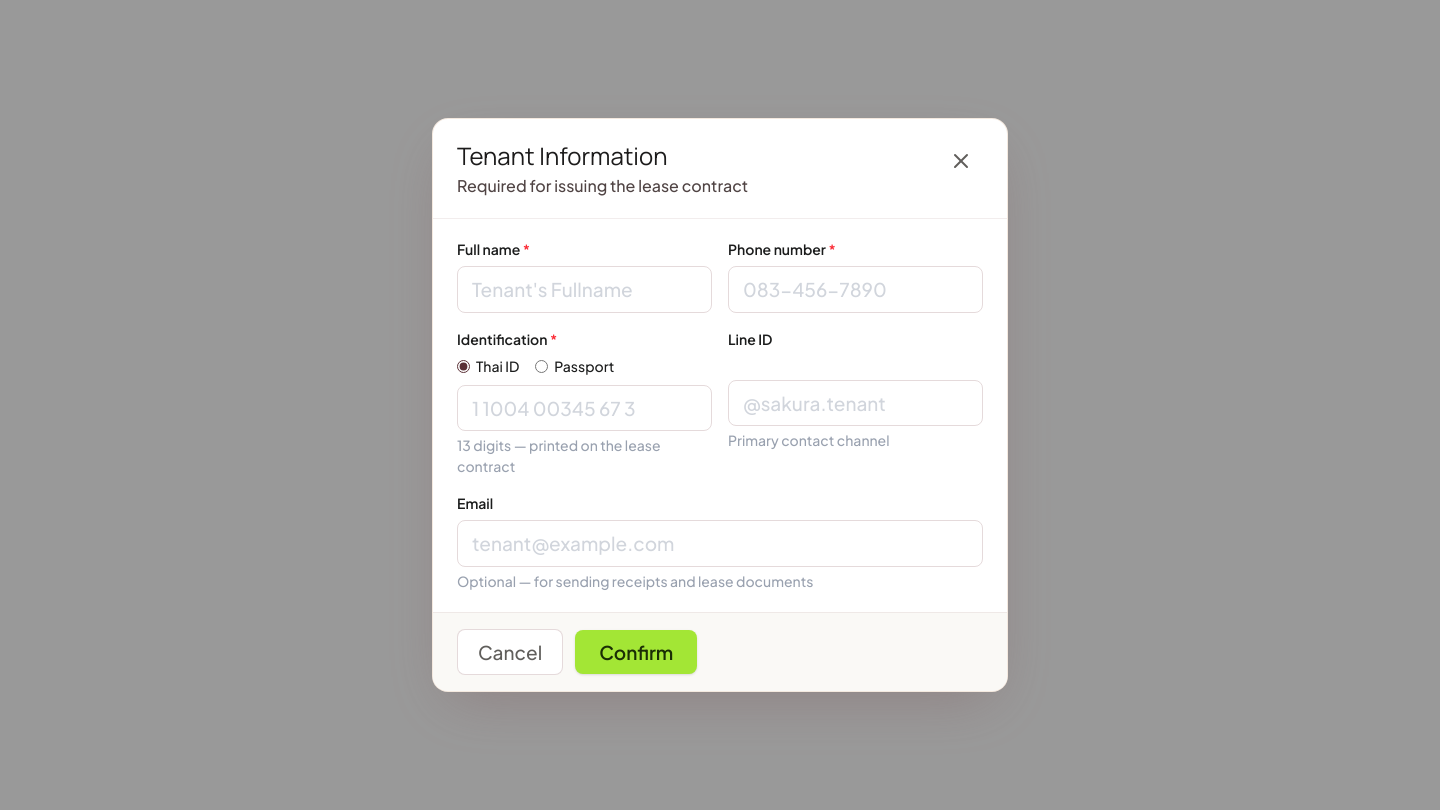
Test: AddTenantDialog (SSK-107) › rejects a passport shorter than 6 characters, the same rule as the backend
Click the radio button labelled "Passport" at {"x": 542, "y": 366}, box left=535, top=360, right=548, bottom=373
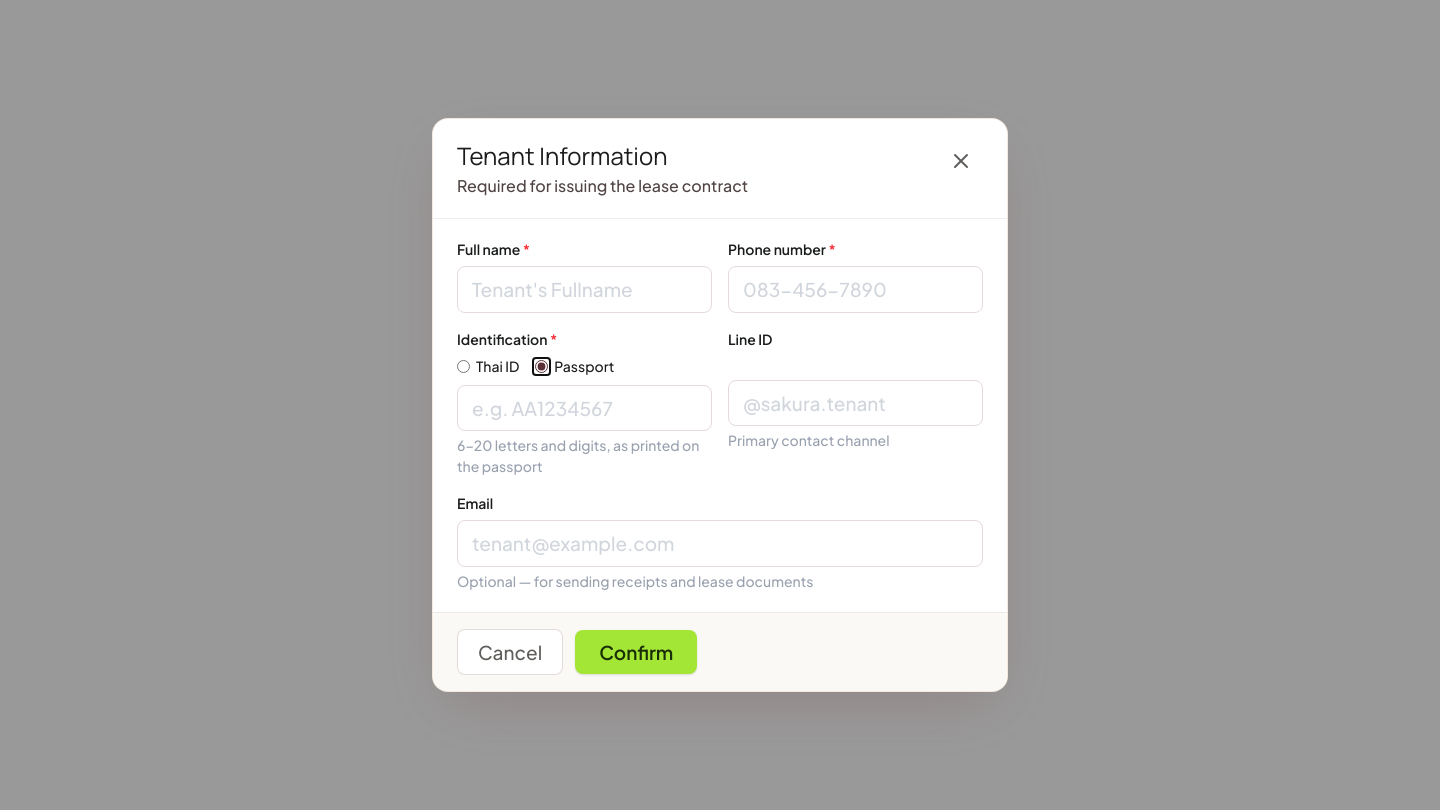
Type "A12" into the field named "Passport number" at {"x": 584, "y": 408}, box left=457, top=385, right=712, bottom=431
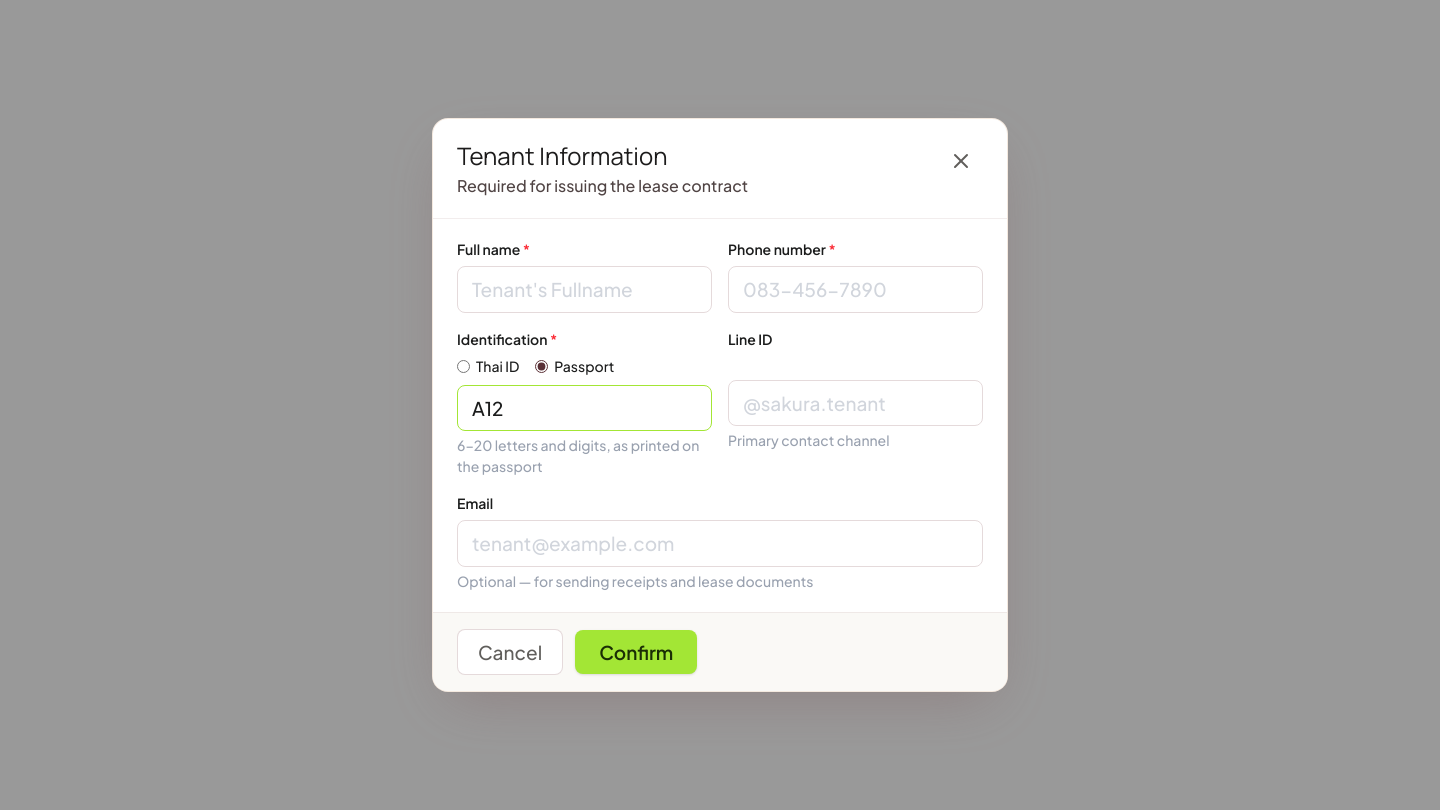
Type "Nanami Aoki" into the field labelled "Full name *" at {"x": 584, "y": 290}, box left=457, top=266, right=712, bottom=313
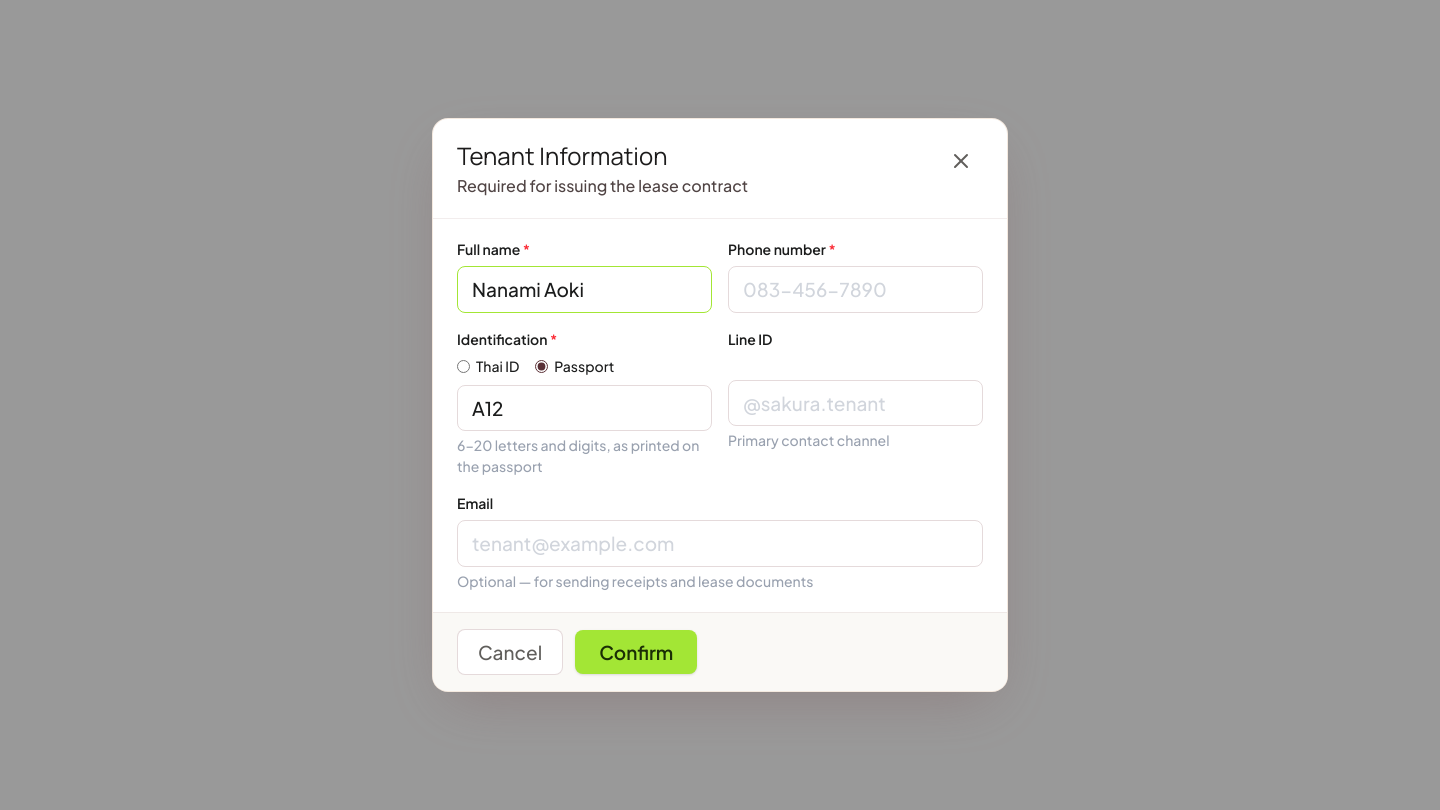
Type "089-777-8888" into the field labelled "Phone number *" at {"x": 856, "y": 290}, box left=728, top=266, right=983, bottom=313
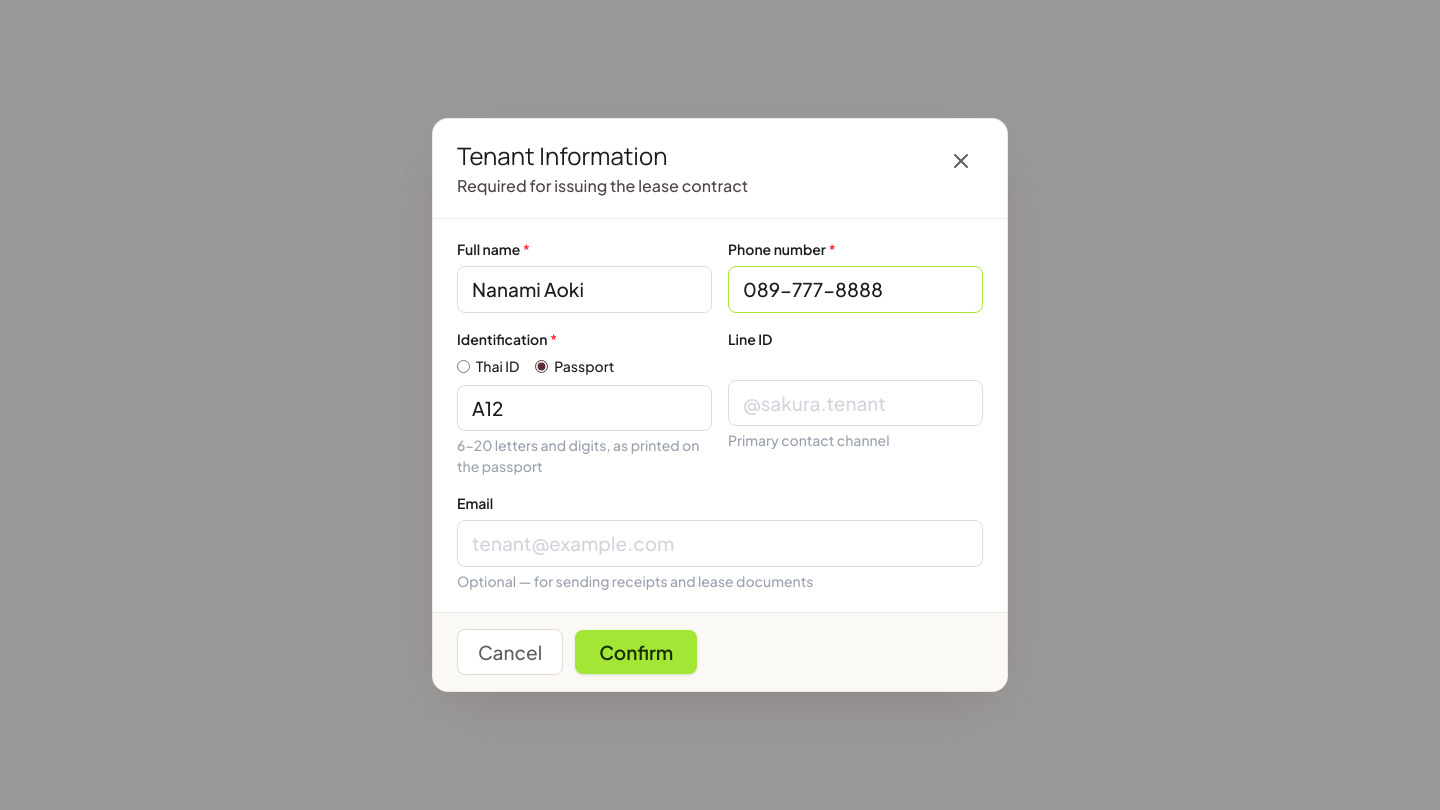
Click the button "Confirm" at {"x": 636, "y": 652}, box left=575, top=630, right=697, bottom=674
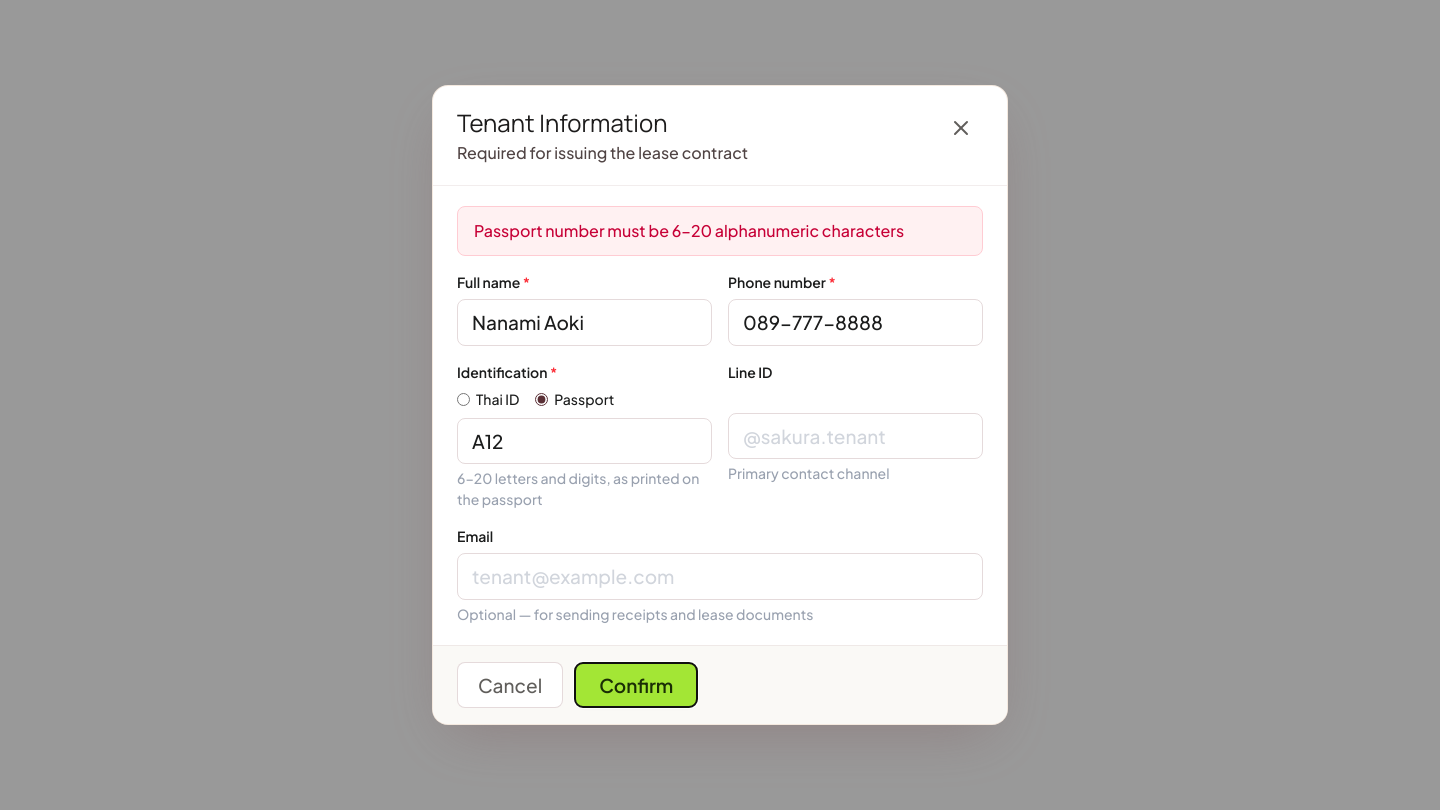
Result: the message reads "Passport number must be 6–20 alphanumeric characters" at left=474, top=220, right=904, bottom=241
